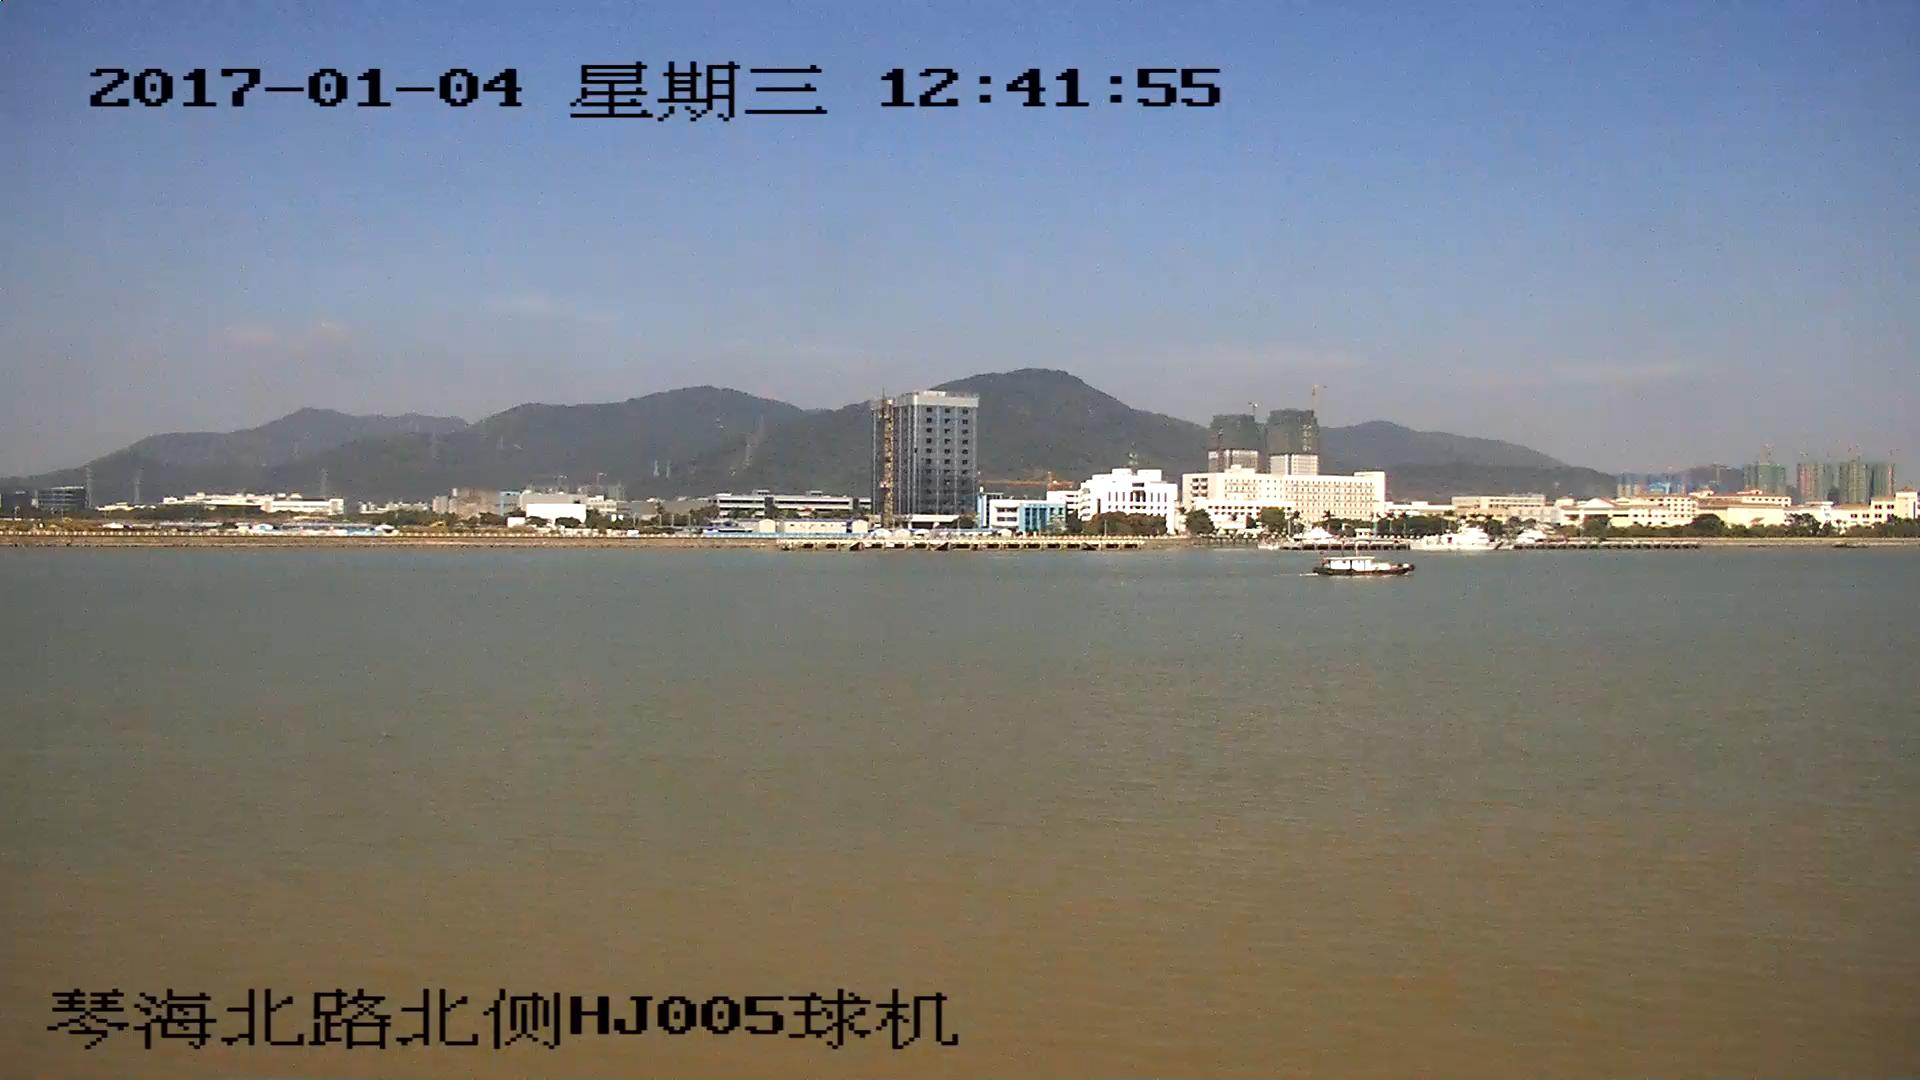fishing boat: (1315, 554, 1412, 578)
